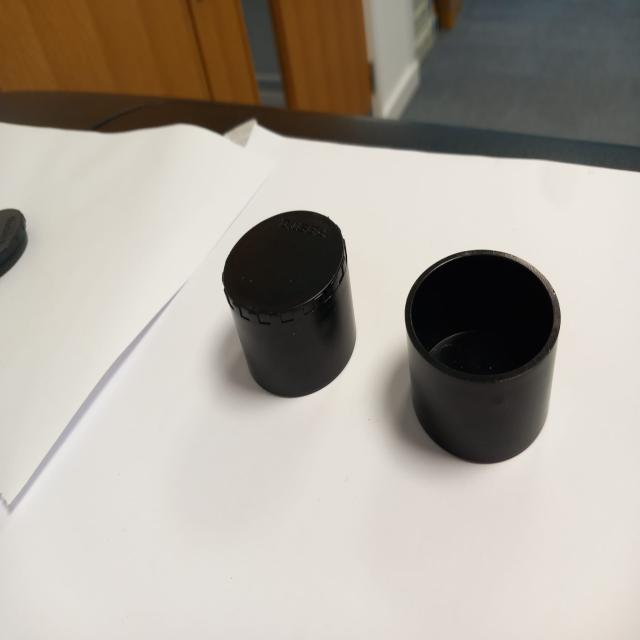NoLid: (394, 215, 576, 478)
Workpiece: (200, 191, 372, 410)
